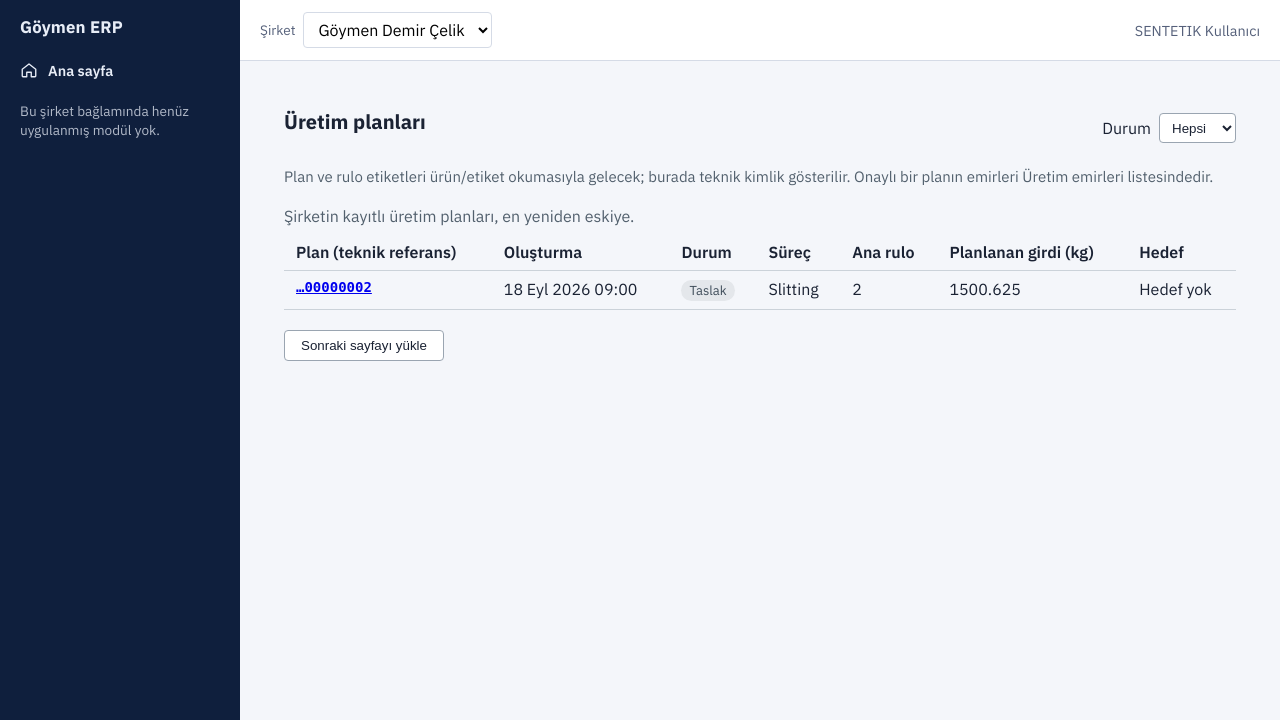
Test: plan list › sends the server’s own cursor back unchanged and appends the next page once
Expected: the row "00000002" is shown, [284,270,1236,309]
Step 1. Click the button "Sonraki sayfayı yükle" → (364, 345), box [284,330,444,361]
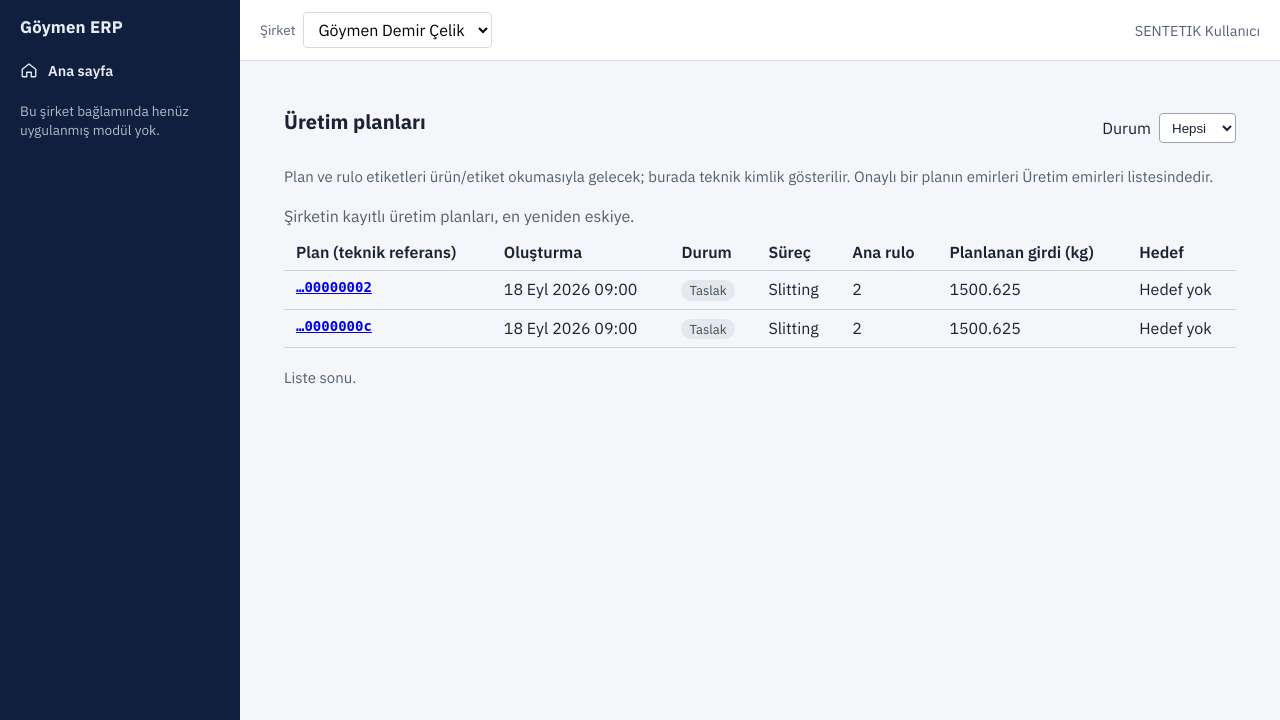
Now the row "0000000c" is shown, box [284,309,1236,348]
Now the text "Liste sonu." is shown, box [284,368,356,387]
Now the number of rows "00000002" is 1, box [284,270,1236,309]
